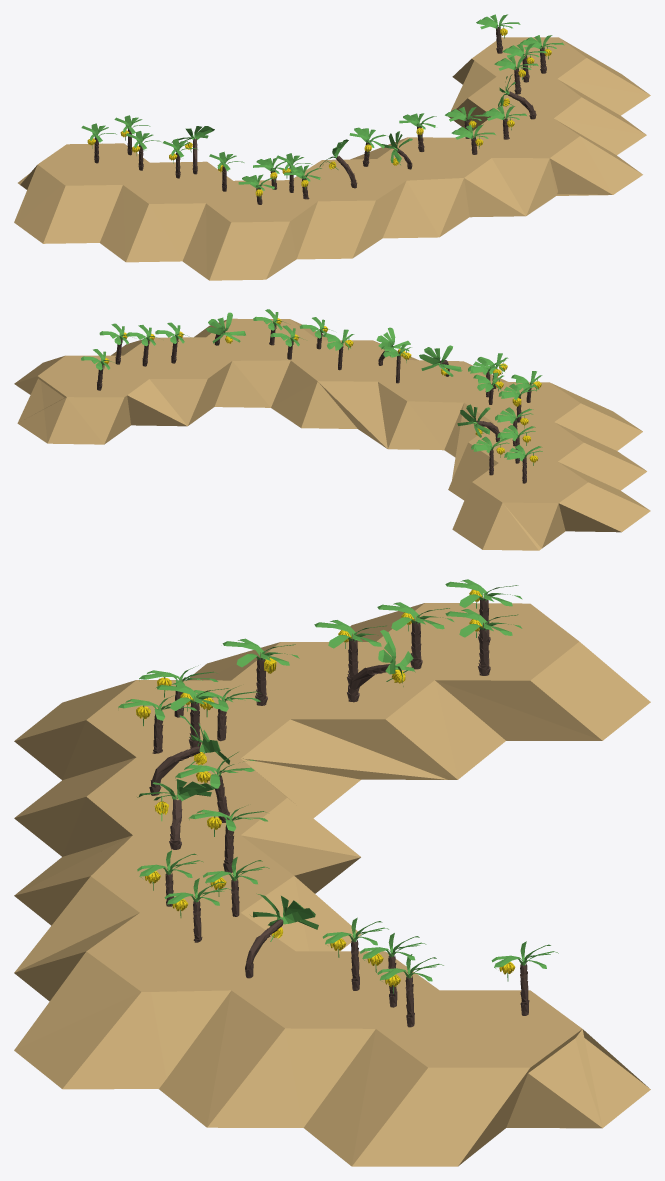
The model's file is insel1.fbx.
3 renders of one model, top to bottom at view 1: azimuth 30°, elevation 25°; view 2: azimuth 150°, elevation 25°; view 3: azimuth 270°, elevation 25°, orthographic. The views are drawn at different scales.
Parts seen in each view (by area): view 1: Landschaft; view 2: Landschaft, Blätter_28, Blätter_18, Blätter_38; view 3: Landschaft, Blätter_18.
Part boxes in pixels (x1,y1,x2,y2): Landschaft: (14,37,650,280); Landschaft: (14,318,650,550); Blätter_28: (419,345,462,376); Blätter_18: (206,312,245,343); Blätter_38: (457,404,490,437); Landschaft: (14,603,650,1166); Blätter_18: (250,893,318,929).
Bounding box in the file's own units: 26259 × 2964 × 13054.
Materials: 4 (3 with a texture image).
